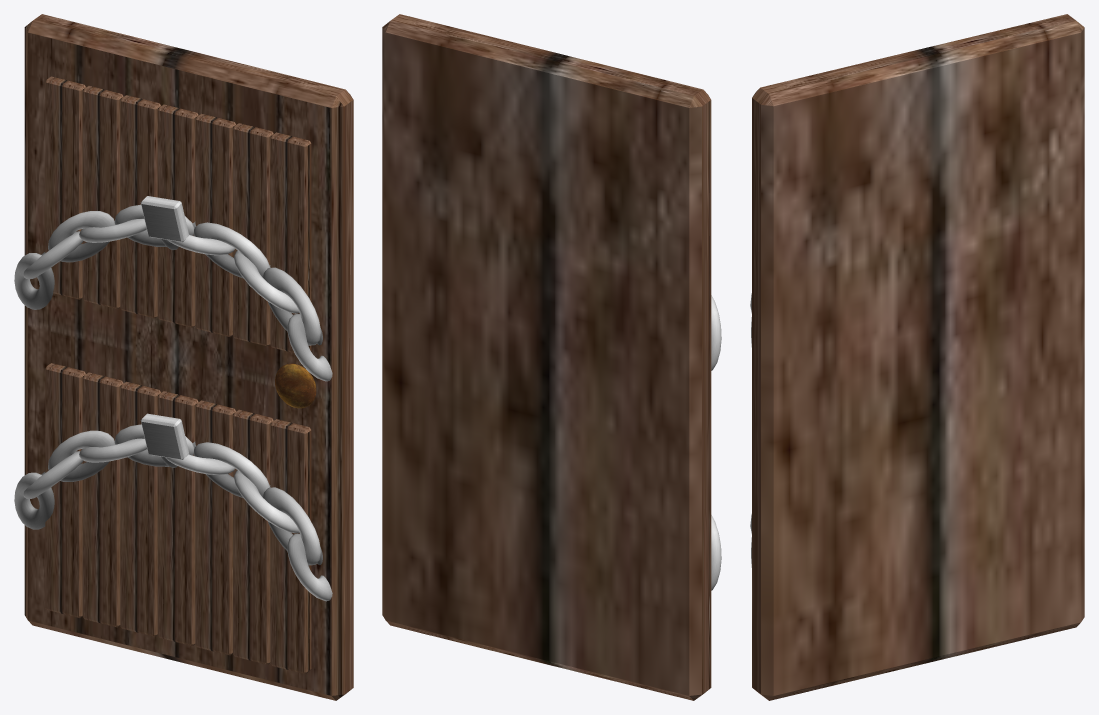
File: ChainedDoorExport.fbx
The picture shows the model from 3 angles, left to right: view 1: azimuth 30°, elevation 25°; view 2: azimuth 210°, elevation 25°; view 3: azimuth 270°, elevation 25°; orthographic projection.
Parts seen in each view (by area): view 1: pTorus17; view 2: pTorus17; view 3: pTorus17.
Boxes of the visible parts, x1,y1,x2,y2 form: pTorus17: (14, 14, 353, 700); pTorus17: (382, 14, 721, 700); pTorus17: (750, 14, 1084, 700).
Bounding box in the file's own units: 0.6075 × 1.8 × 0.8992.
3 materials, 3 textured.
